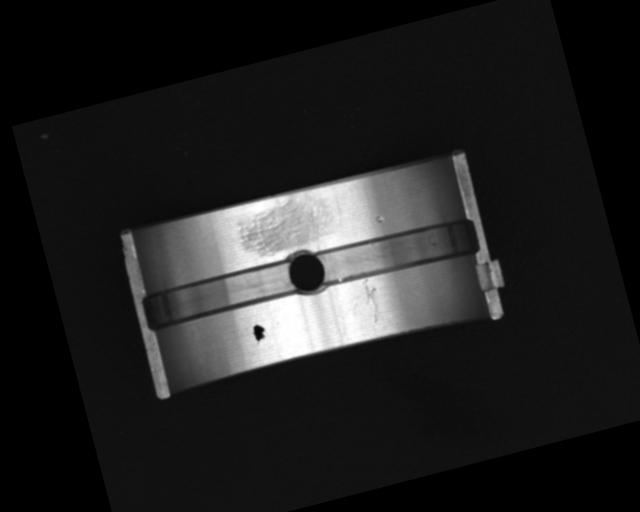blot: (249, 321, 270, 347)
bruise: (373, 213, 386, 225)
gap: (312, 210, 479, 294), (139, 256, 300, 333)
hole: (283, 245, 331, 300)
nick: (359, 276, 385, 326)
scratch: (230, 185, 340, 261)
